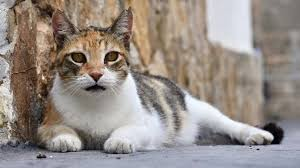cat: (34, 5, 291, 158)
